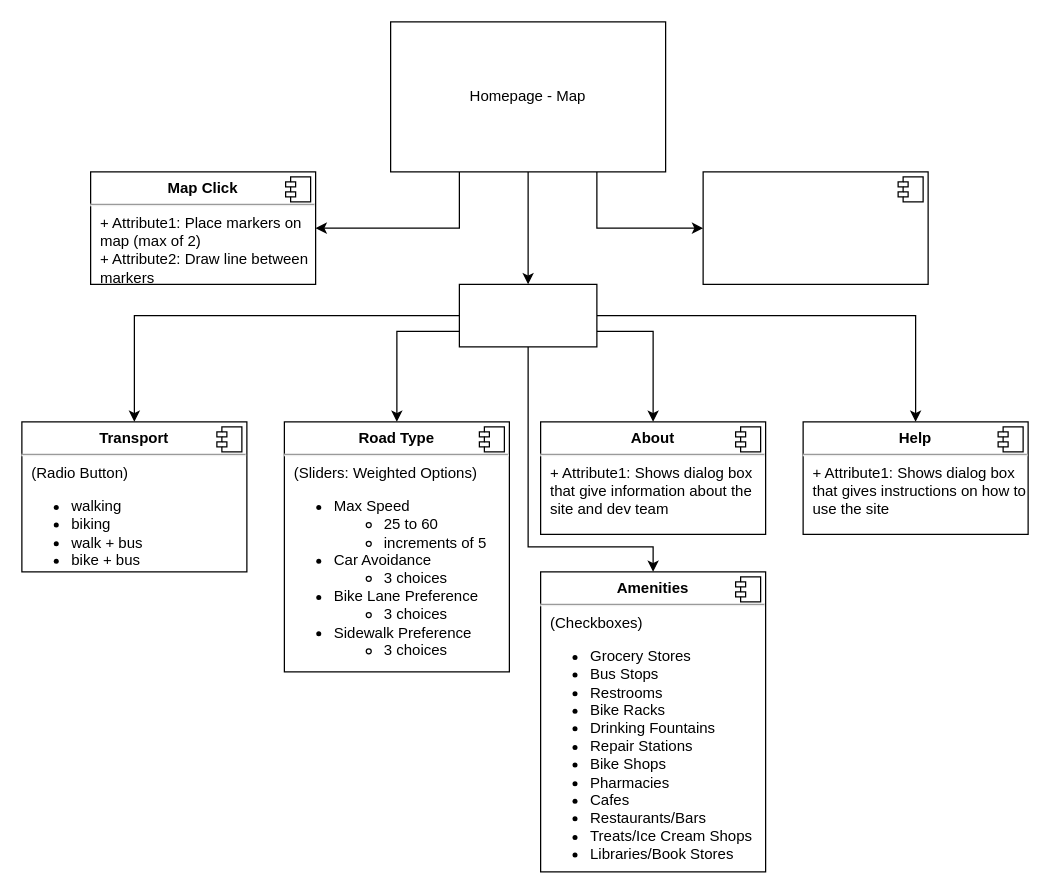
Image size: 1050x894. Some labels were removed from this diagram. The centre of each missing label's shape, as x and y in pixels:
"layer Button + Attribute1: Switches between map and satellite view" belongs at point 815,227.
"«interface» Settings Menu" belongs at point 527,315.
